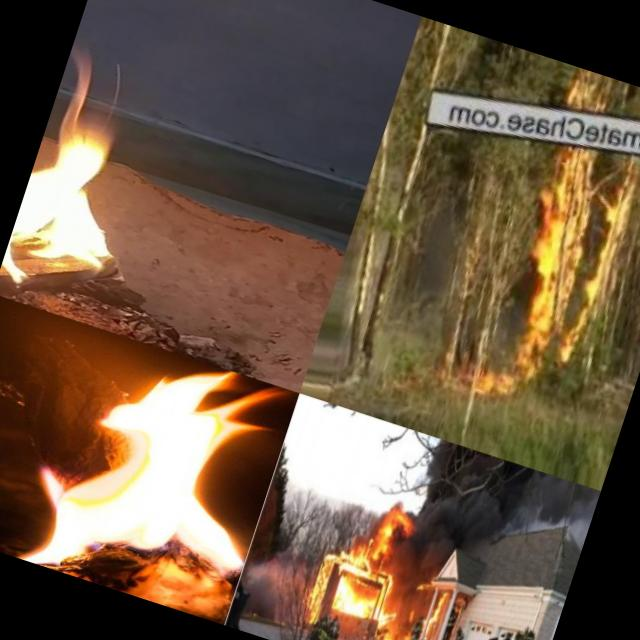fire: (2, 320, 300, 626), (0, 94, 183, 334), (502, 154, 638, 370), (301, 529, 403, 640), (370, 504, 423, 554), (418, 581, 451, 640), (373, 607, 405, 640), (398, 605, 421, 640)
smoke: (411, 438, 571, 556), (551, 482, 601, 558), (407, 517, 462, 580), (387, 565, 432, 618)
